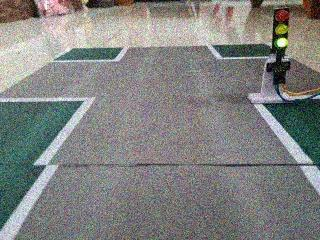green: (267, 5, 293, 66)
